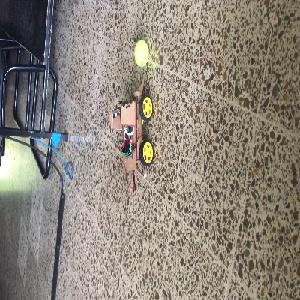Ball: (134, 40, 149, 67)
Robot: (111, 78, 154, 173)
